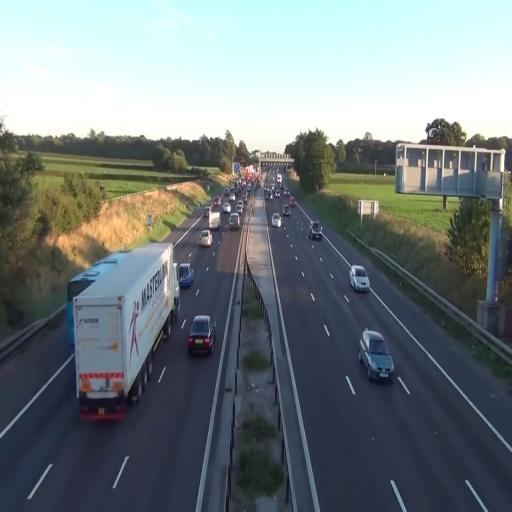vehicle: (72, 241, 180, 421), (72, 242, 180, 420), (359, 328, 394, 382), (187, 314, 215, 356), (350, 264, 370, 292), (177, 262, 193, 288), (198, 229, 212, 247), (310, 222, 322, 241), (272, 212, 282, 227)
